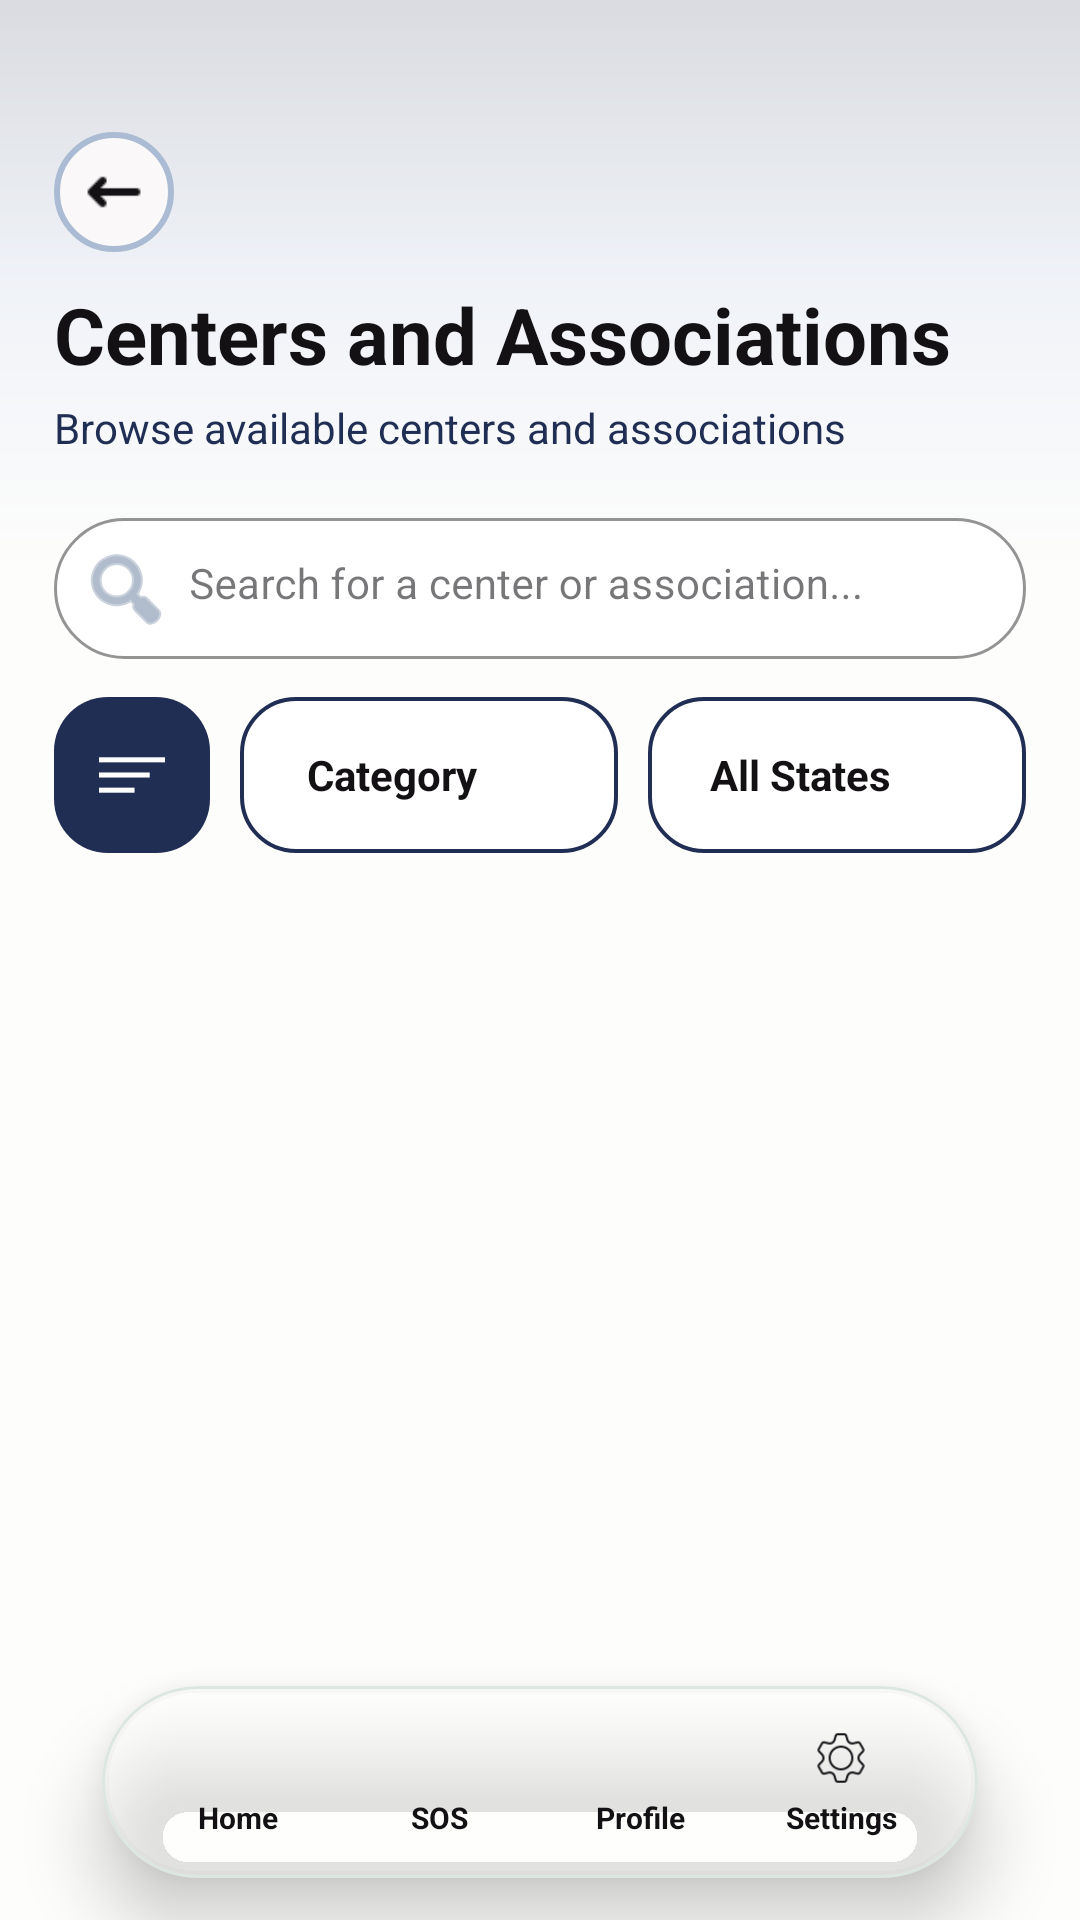

Named icons in this screenshot (1080w x 1920h) and their centers, (x,y):
filter: (132,775)
